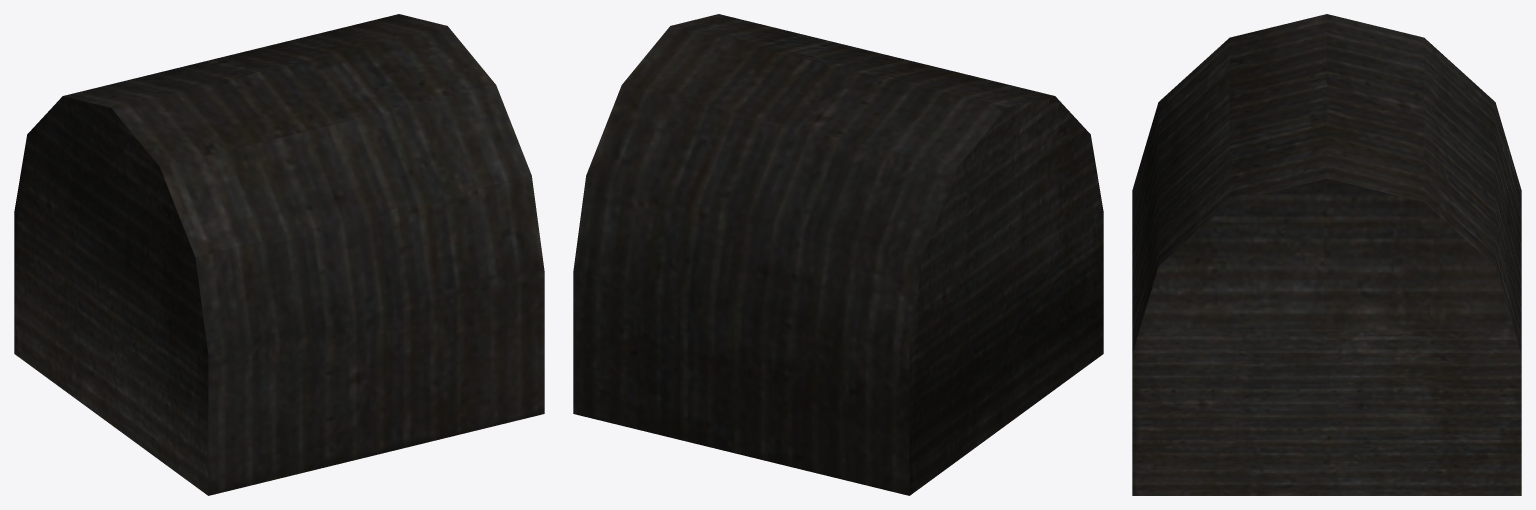
File: tunnel_1_end.obj
The picture shows the model from 3 angles, left to right: view 1: azimuth 30°, elevation 25°; view 2: azimuth 150°, elevation 25°; view 3: azimuth 270°, elevation 25°; orthographic projection.
Visible parts, largest first — view 1: tunnel_1_end; view 2: tunnel_1_end; view 3: tunnel_1_end.
Boxes of the visible parts, bbox=[...] form: tunnel_1_end: bbox=[14, 14, 544, 495]; tunnel_1_end: bbox=[573, 14, 1103, 495]; tunnel_1_end: bbox=[1132, 14, 1521, 495].
Bounding box in the file's own units: 2 × 1.8 × 2.
